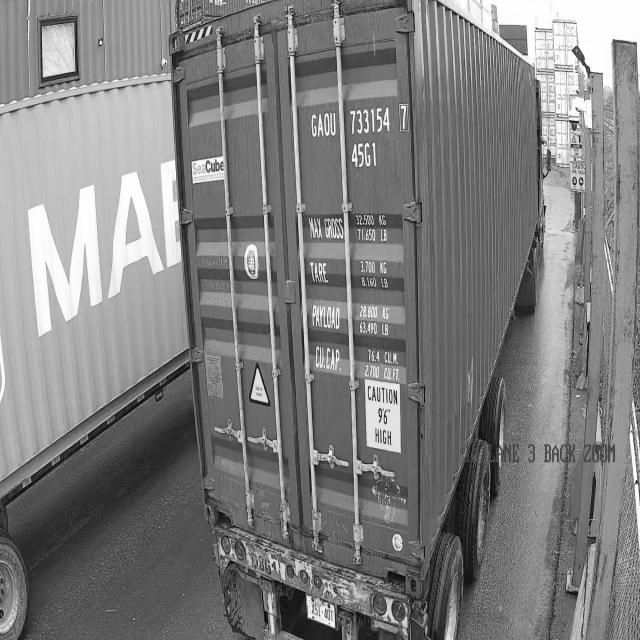container_company_logo: (190, 158, 229, 181)
container_number: (306, 105, 413, 172)
license_plate: (309, 597, 337, 627)
other_container_info: (306, 212, 406, 380)
truck_trailer: (0, 76, 188, 639)
truck_with_container: (170, 0, 548, 639)
